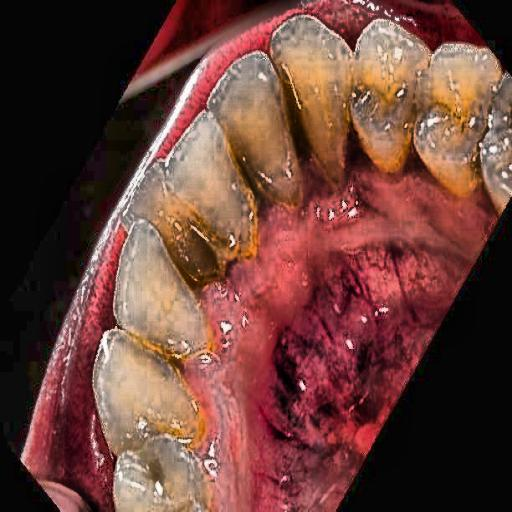Calculus: (178, 168, 267, 447)
